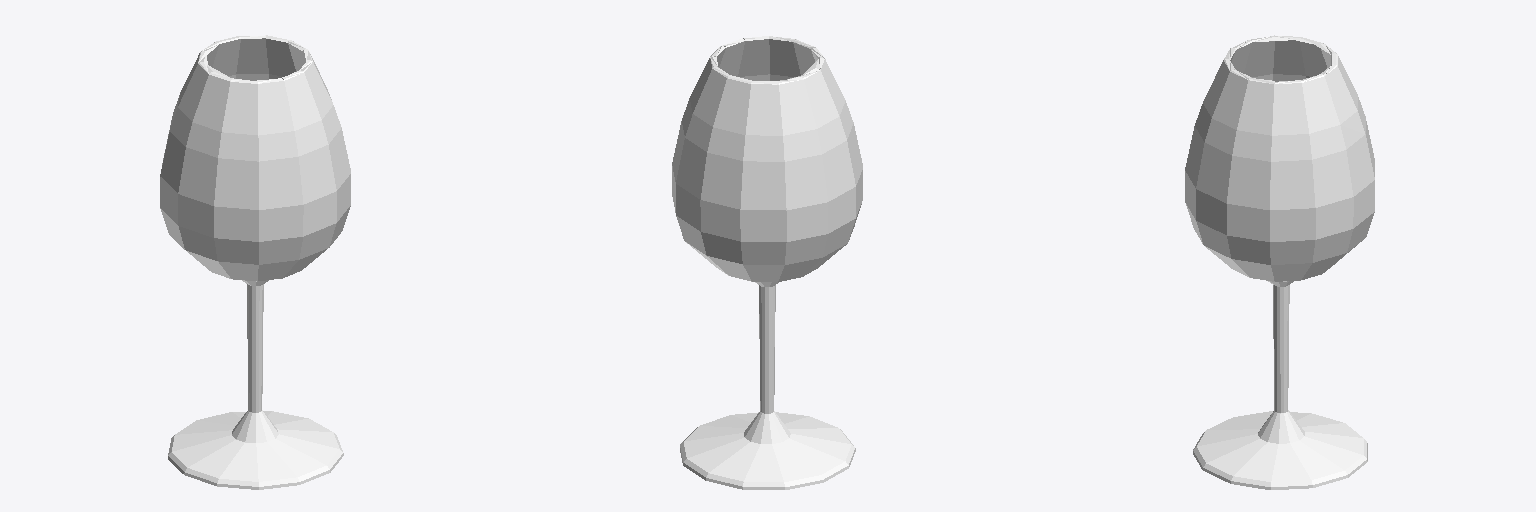
The model's file is Wine Glass BB (1).obj.
3 renders of one model, left to right at view 1: azimuth 30°, elevation 25°; view 2: azimuth 150°, elevation 25°; view 3: azimuth 270°, elevation 25°, orthographic.
Parts seen in each view (by area): view 1: Wine Glass BB (1); view 2: Wine Glass BB (1); view 3: Wine Glass BB (1).
Part boxes in pixels (x1,y1,x2,y2): Wine Glass BB (1): (160,35,350,489); Wine Glass BB (1): (672,36,862,489); Wine Glass BB (1): (1185,35,1374,489).
Bounding box in the file's own units: 0.1141 × 0.2591 × 0.1132.